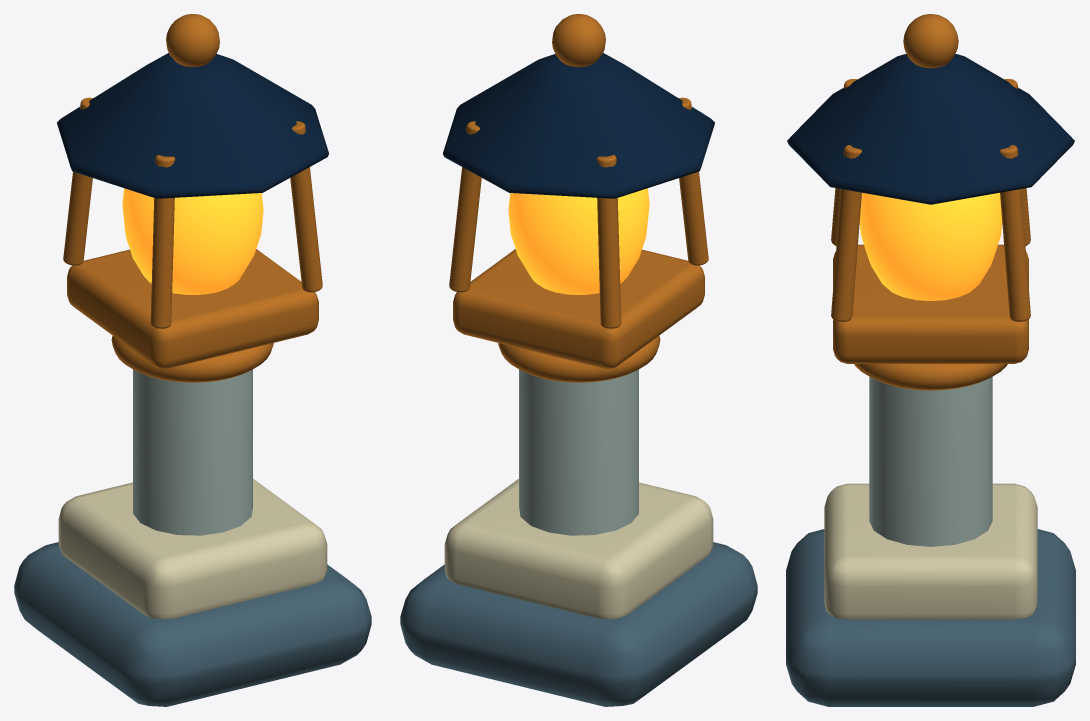
The model's file is star_lantern_lit.glb.
3 renders of one model, left to right at view 1: azimuth 30°, elevation 25°; view 2: azimuth 150°, elevation 25°; view 3: azimuth 270°, elevation 25°, orthographic. The views are drawn at different scales.
Visible parts, largest first — view 1: star_lantern_foot, star_lantern_hat, star_lantern_base, star_lantern_pillar, star_lantern_lower, star_lantern_glowing_core, star_lantern_collar, star_lantern_cage, star_lantern_cage.002, star_lantern_finial, star_lantern_cage.001; view 2: star_lantern_foot, star_lantern_hat, star_lantern_base, star_lantern_pillar, star_lantern_lower, star_lantern_glowing_core, star_lantern_collar, star_lantern_cage.001, star_lantern_cage.003, star_lantern_finial, star_lantern_cage; view 3: star_lantern_foot, star_lantern_hat, star_lantern_base, star_lantern_pillar, star_lantern_lower, star_lantern_glowing_core, star_lantern_cage.002, star_lantern_cage.003, star_lantern_collar, star_lantern_finial.
Part boxes in pixels (bbox=[...]): star_lantern_foot: bbox=[14, 542, 371, 706]; star_lantern_hat: bbox=[57, 53, 328, 198]; star_lantern_base: bbox=[58, 479, 327, 619]; star_lantern_pillar: bbox=[133, 369, 252, 535]; star_lantern_lower: bbox=[67, 249, 318, 368]; star_lantern_glowing_core: bbox=[122, 188, 263, 294]; star_lantern_collar: bbox=[111, 335, 273, 382]; star_lantern_cage: bbox=[150, 155, 175, 328]; star_lantern_cage.002: bbox=[290, 121, 322, 292]; star_lantern_finial: bbox=[166, 14, 219, 67]; star_lantern_cage.001: bbox=[63, 97, 92, 265]; star_lantern_foot: bbox=[400, 542, 757, 706]; star_lantern_hat: bbox=[443, 53, 714, 198]; star_lantern_base: bbox=[444, 479, 713, 619]; star_lantern_pillar: bbox=[519, 369, 638, 535]; star_lantern_lower: bbox=[453, 249, 704, 368]; star_lantern_glowing_core: bbox=[508, 188, 649, 294]; star_lantern_collar: bbox=[498, 335, 660, 382]; star_lantern_cage.001: bbox=[596, 155, 621, 328]; star_lantern_cage.003: bbox=[449, 121, 481, 292]; star_lantern_finial: bbox=[552, 14, 605, 67]; star_lantern_cage: bbox=[679, 97, 708, 265]; star_lantern_foot: bbox=[786, 529, 1075, 706]; star_lantern_hat: bbox=[787, 54, 1074, 204]; star_lantern_base: bbox=[824, 483, 1037, 619]; star_lantern_pillar: bbox=[869, 377, 992, 546]; star_lantern_lower: bbox=[833, 244, 1028, 363]; star_lantern_glowing_core: bbox=[859, 192, 1002, 300]; star_lantern_cage.002: bbox=[831, 145, 861, 321]; star_lantern_cage.003: bbox=[1000, 145, 1030, 321]; star_lantern_collar: bbox=[854, 364, 1007, 390]; star_lantern_finial: bbox=[903, 14, 958, 68].
Size of the model in its own units: 0.68 by 1.67 by 0.68.
